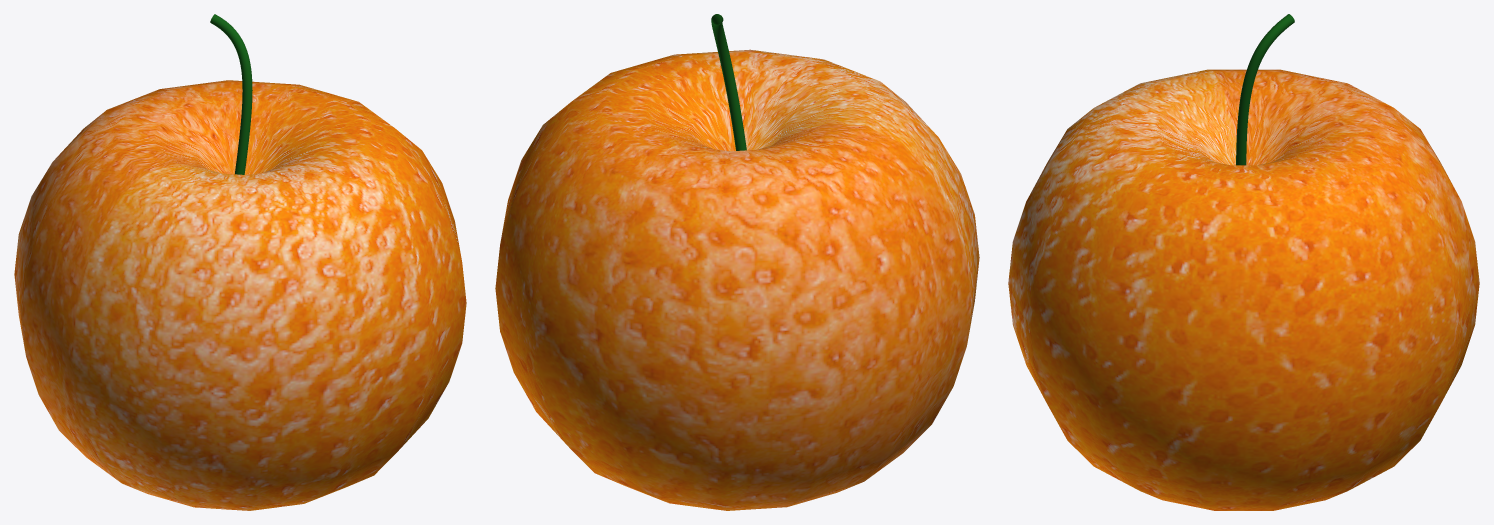
Rendered from jeruk.glb.
The picture shows the model from 3 angles, left to right: view 1: azimuth 30°, elevation 25°; view 2: azimuth 150°, elevation 25°; view 3: azimuth 270°, elevation 25°; orthographic projection. The views are drawn at different scales.
Visible parts, largest first — view 1: Sphere, NurbsPath; view 2: Sphere, NurbsPath; view 3: Sphere, NurbsPath.
Part boxes in pixels (x1=…): Sphere: x1=14, y1=80, x2=466, y2=510; NurbsPath: x1=210, y1=14, x2=252, y2=174; Sphere: x1=495, y1=49, x2=979, y2=510; NurbsPath: x1=711, y1=14, x2=746, y2=150; Sphere: x1=1008, y1=69, x2=1479, y2=510; NurbsPath: x1=1236, y1=14, x2=1294, y2=165.
Bounding box in the file's own units: 0.2999 × 0.3301 × 0.3076.
Materials: 2 (1 with a texture image).
